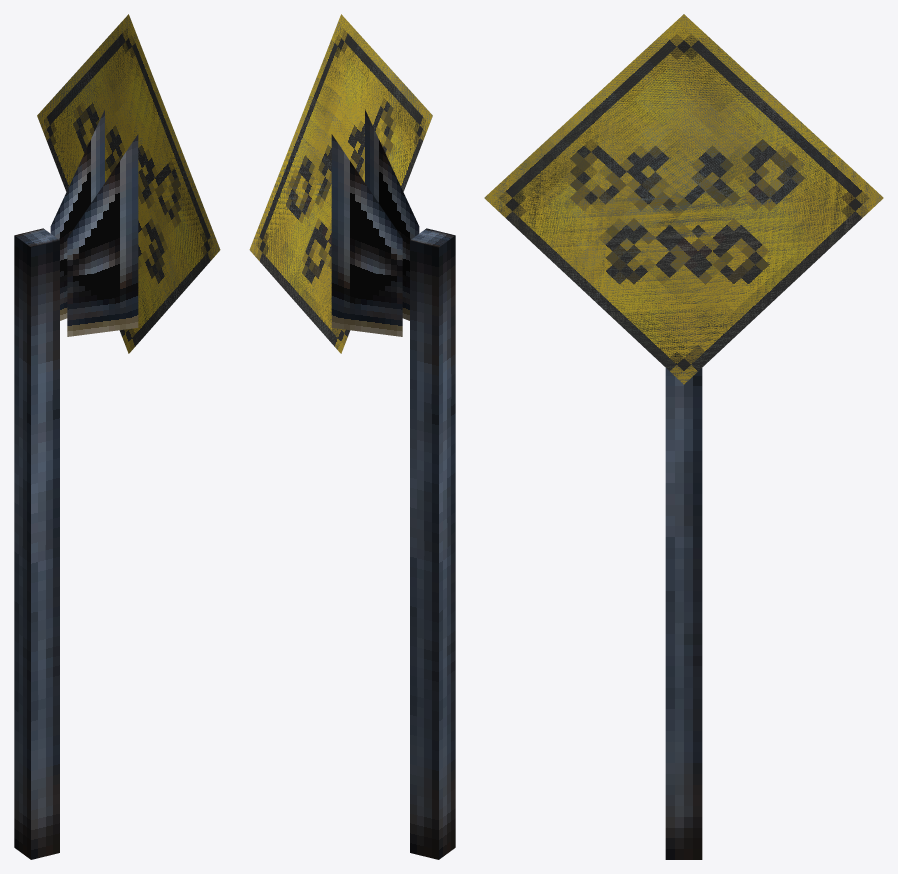
3 views of the same model, side by side, from view 1: azimuth 30°, elevation 25°; view 2: azimuth 150°, elevation 25°; view 3: azimuth 270°, elevation 25° (orthographic). The views are drawn at different scales.
Parts seen in each view (by area): view 1: prim163-roadsign01; view 2: prim163-roadsign01; view 3: prim163-roadsign01.
Boxes of the visible parts, bbox=[...] form: prim163-roadsign01: bbox=[14, 14, 220, 859]; prim163-roadsign01: bbox=[249, 14, 455, 859]; prim163-roadsign01: bbox=[484, 14, 883, 859].
Size of the model in its own units: 44 by 323 by 132.
Materials: 4 (4 with a texture image).
